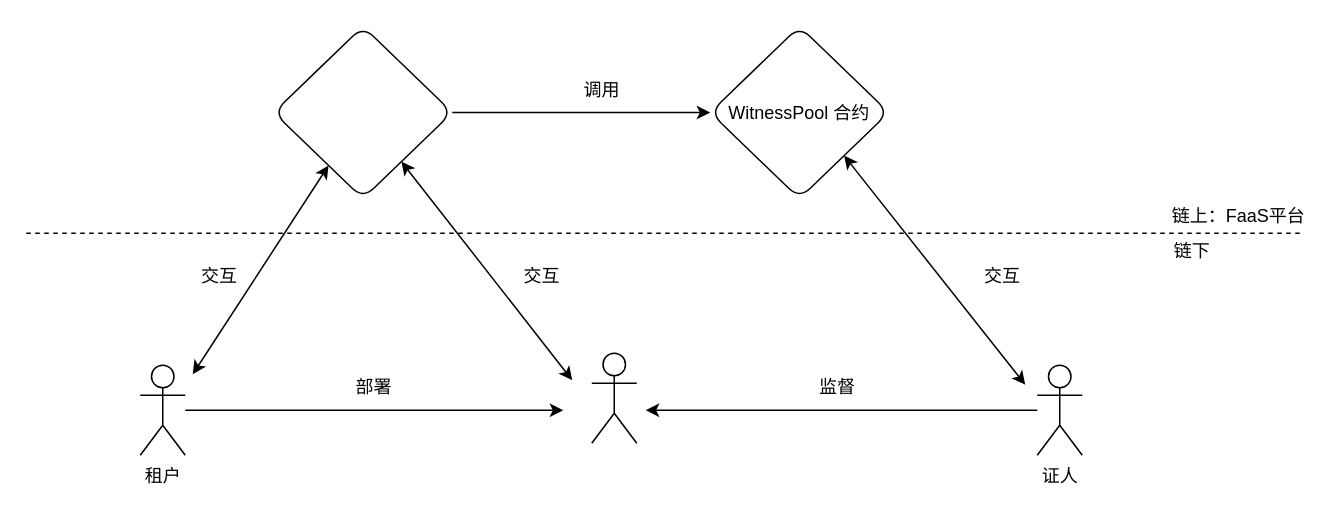
Some shapes in this 1341 by 513 pixel diagram are drawn without their labels. Each missing label, with the centre of its shape:
Market 合约: point 362,112
供应商: point 613,397
